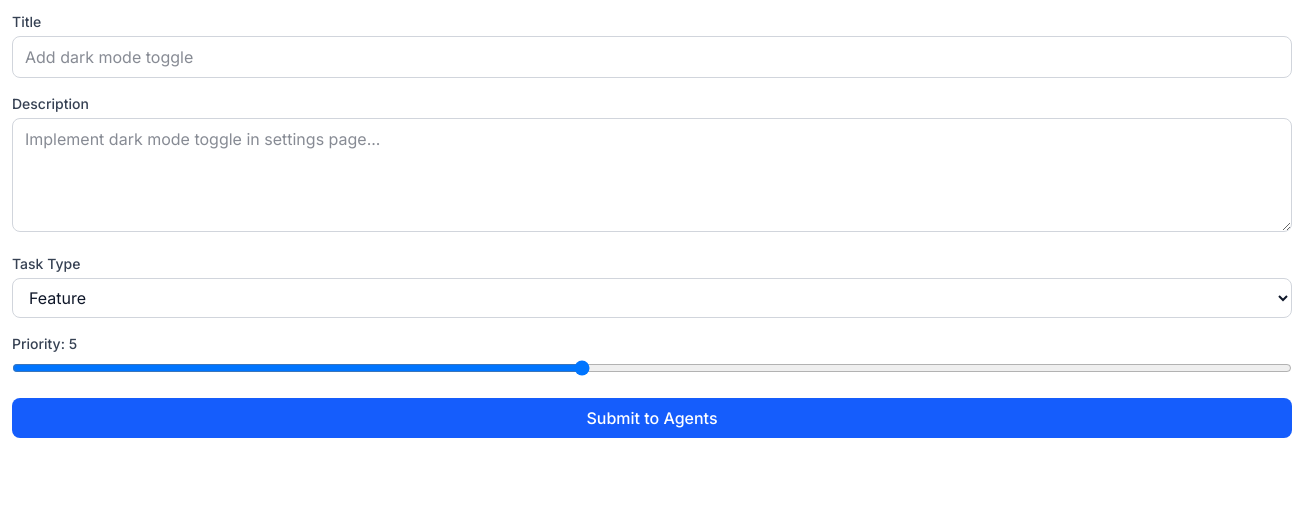
Test: TaskSubmissionForm Component › Form Submission - Error › should handle network error
Type "Test" into the field with test id "title-input" at coordinates (652, 57), box [12,36,1292,78]
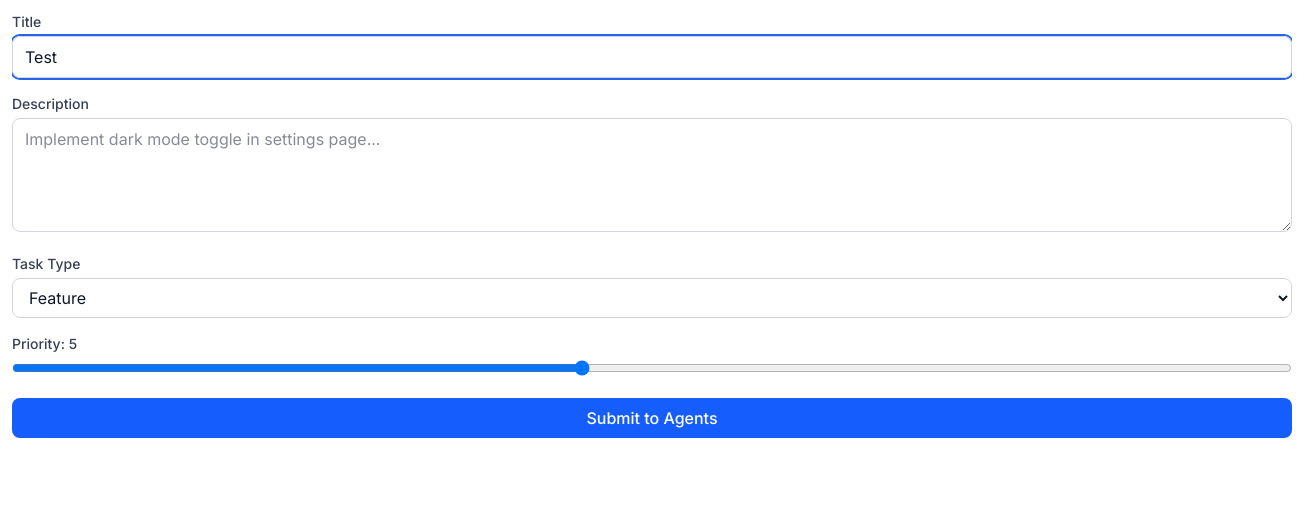
Type "Test description" into the text box with test id "description-input" at coordinates (652, 175), box [12,118,1292,232]
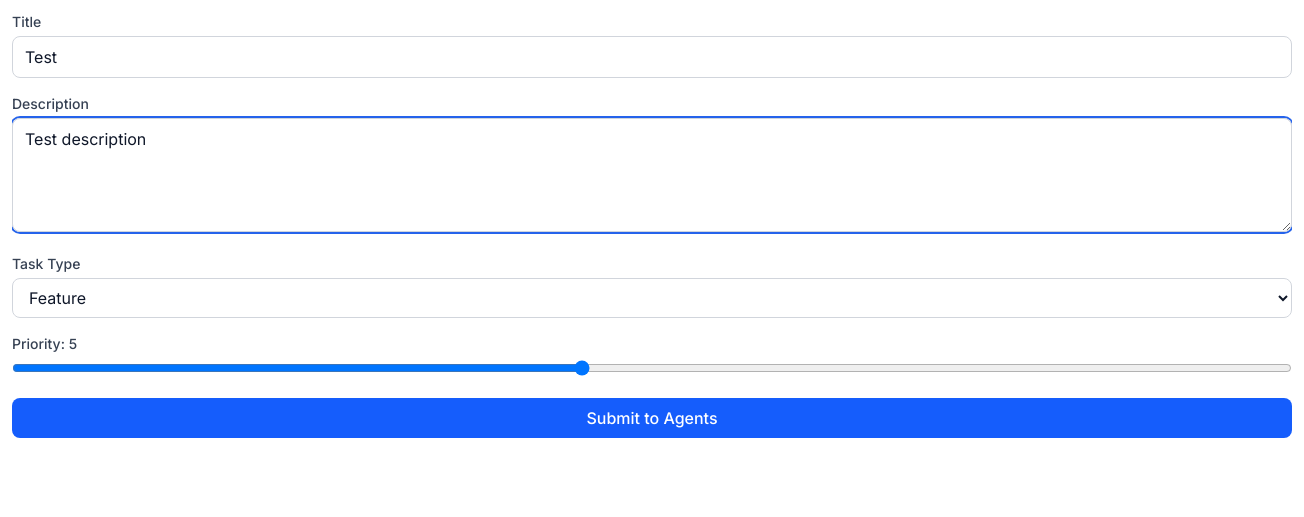
Click the button with test id "submit-button" at coordinates (652, 418), box [12,398,1292,438]
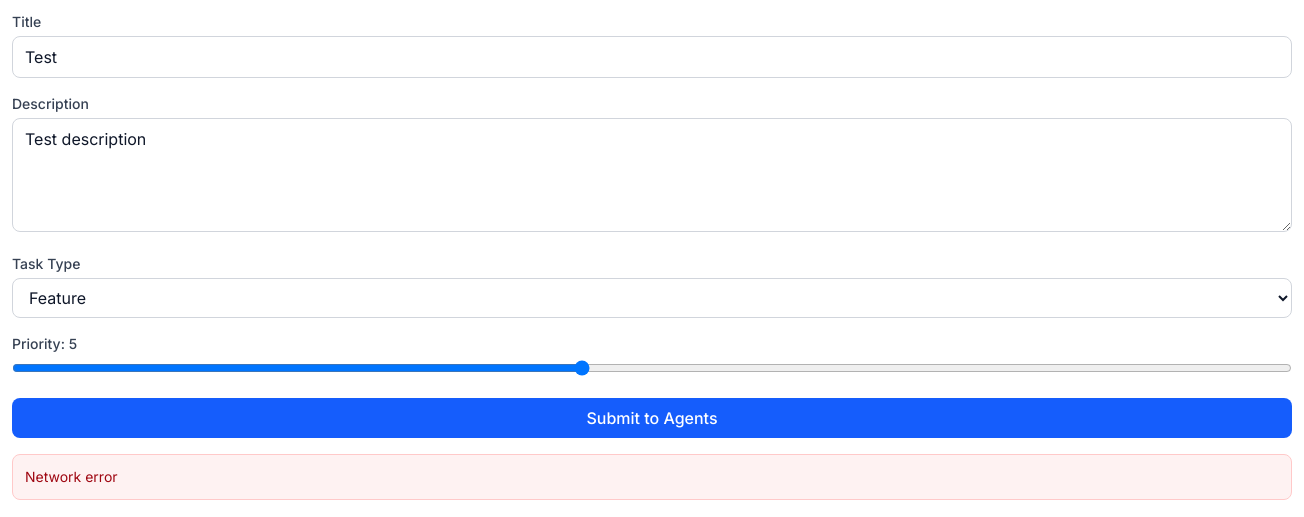
Check: the text with test id "error-message" reads "Network error", box [25,468,118,485]
